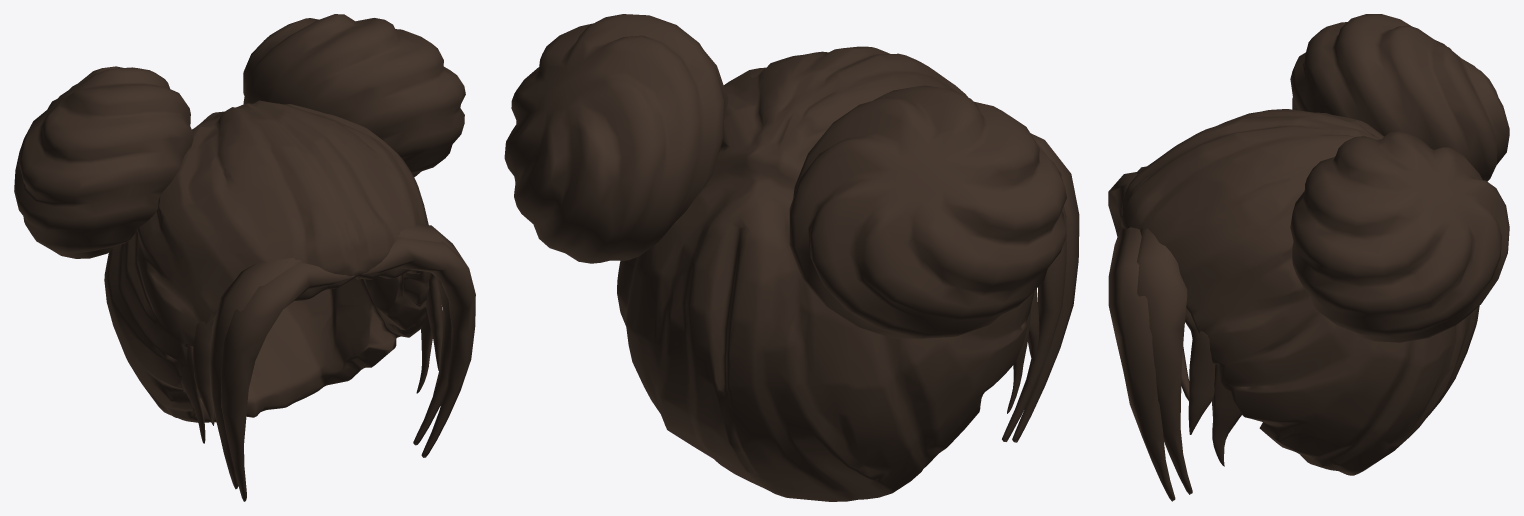
The model's file is hair_dreads_male.glb.
3 views of the same model, side by side, from view 1: azimuth 30°, elevation 25°; view 2: azimuth 150°, elevation 25°; view 3: azimuth 270°, elevation 25° (orthographic). The views are drawn at different scales.
Parts seen in each view (by area): view 1: hair_dreads_male; view 2: hair_dreads_male; view 3: hair_dreads_male.
Boxes of the visible parts, x1,y1,x2,y2 form: hair_dreads_male: [14, 14, 475, 501]; hair_dreads_male: [504, 14, 1079, 501]; hair_dreads_male: [1108, 14, 1509, 501].
Bounding box in the file's own units: 0.3087 × 0.2468 × 0.2411.
